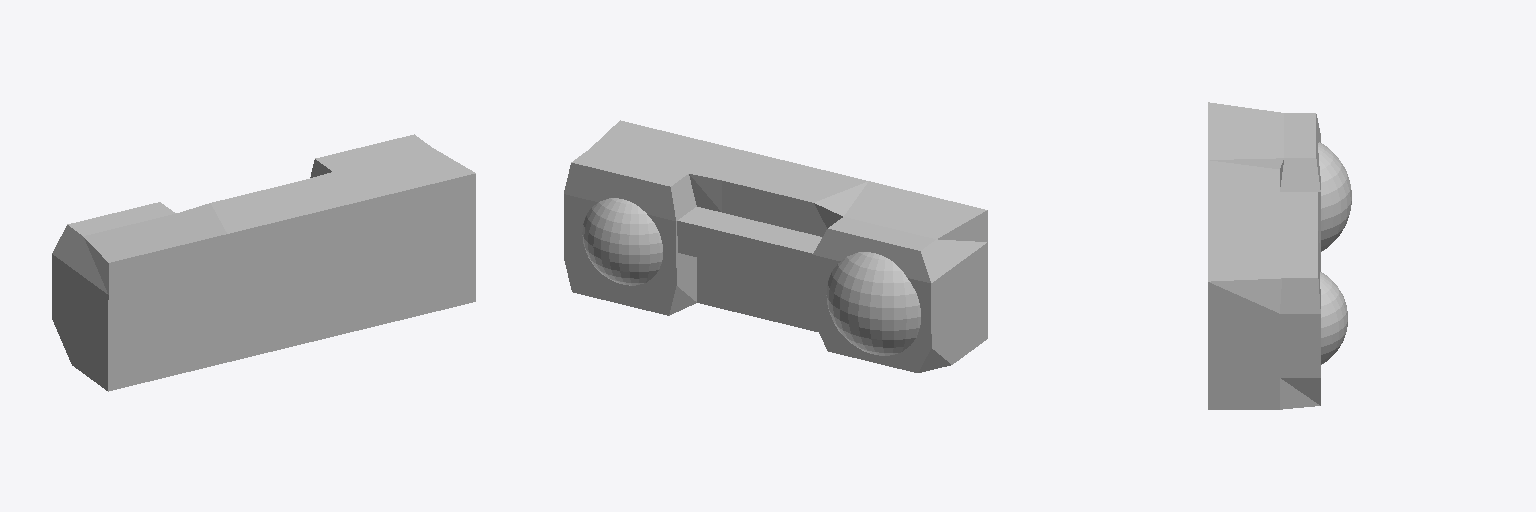
Rendered from distancemeasuringirsensor.obj.
3 renders of one model, left to right at view 1: azimuth 30°, elevation 25°; view 2: azimuth 150°, elevation 25°; view 3: azimuth 270°, elevation 25°, orthographic.
Parts seen in each view (by area): view 1: Cube_Cube.001; view 2: Cube_Cube.001; view 3: Cube_Cube.001.
Part boxes in pixels (x1,y1,x2,y2): Cube_Cube.001: (52, 134, 475, 391); Cube_Cube.001: (564, 120, 987, 372); Cube_Cube.001: (1208, 102, 1351, 409).
Bounding box in the file's own units: 8.99 × 3 × 3.06.